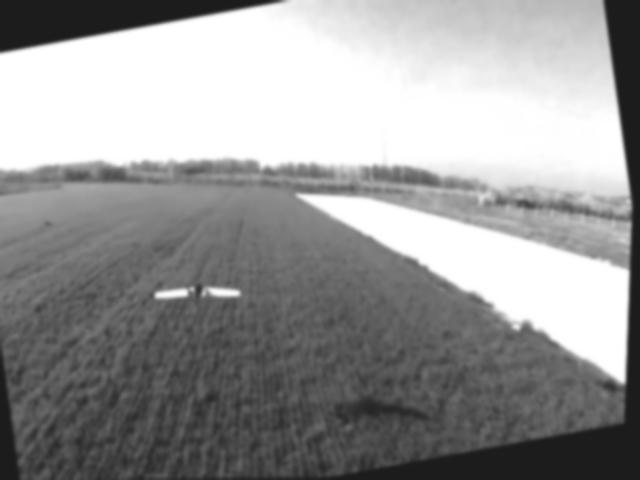hedef: (148, 262, 253, 328)
